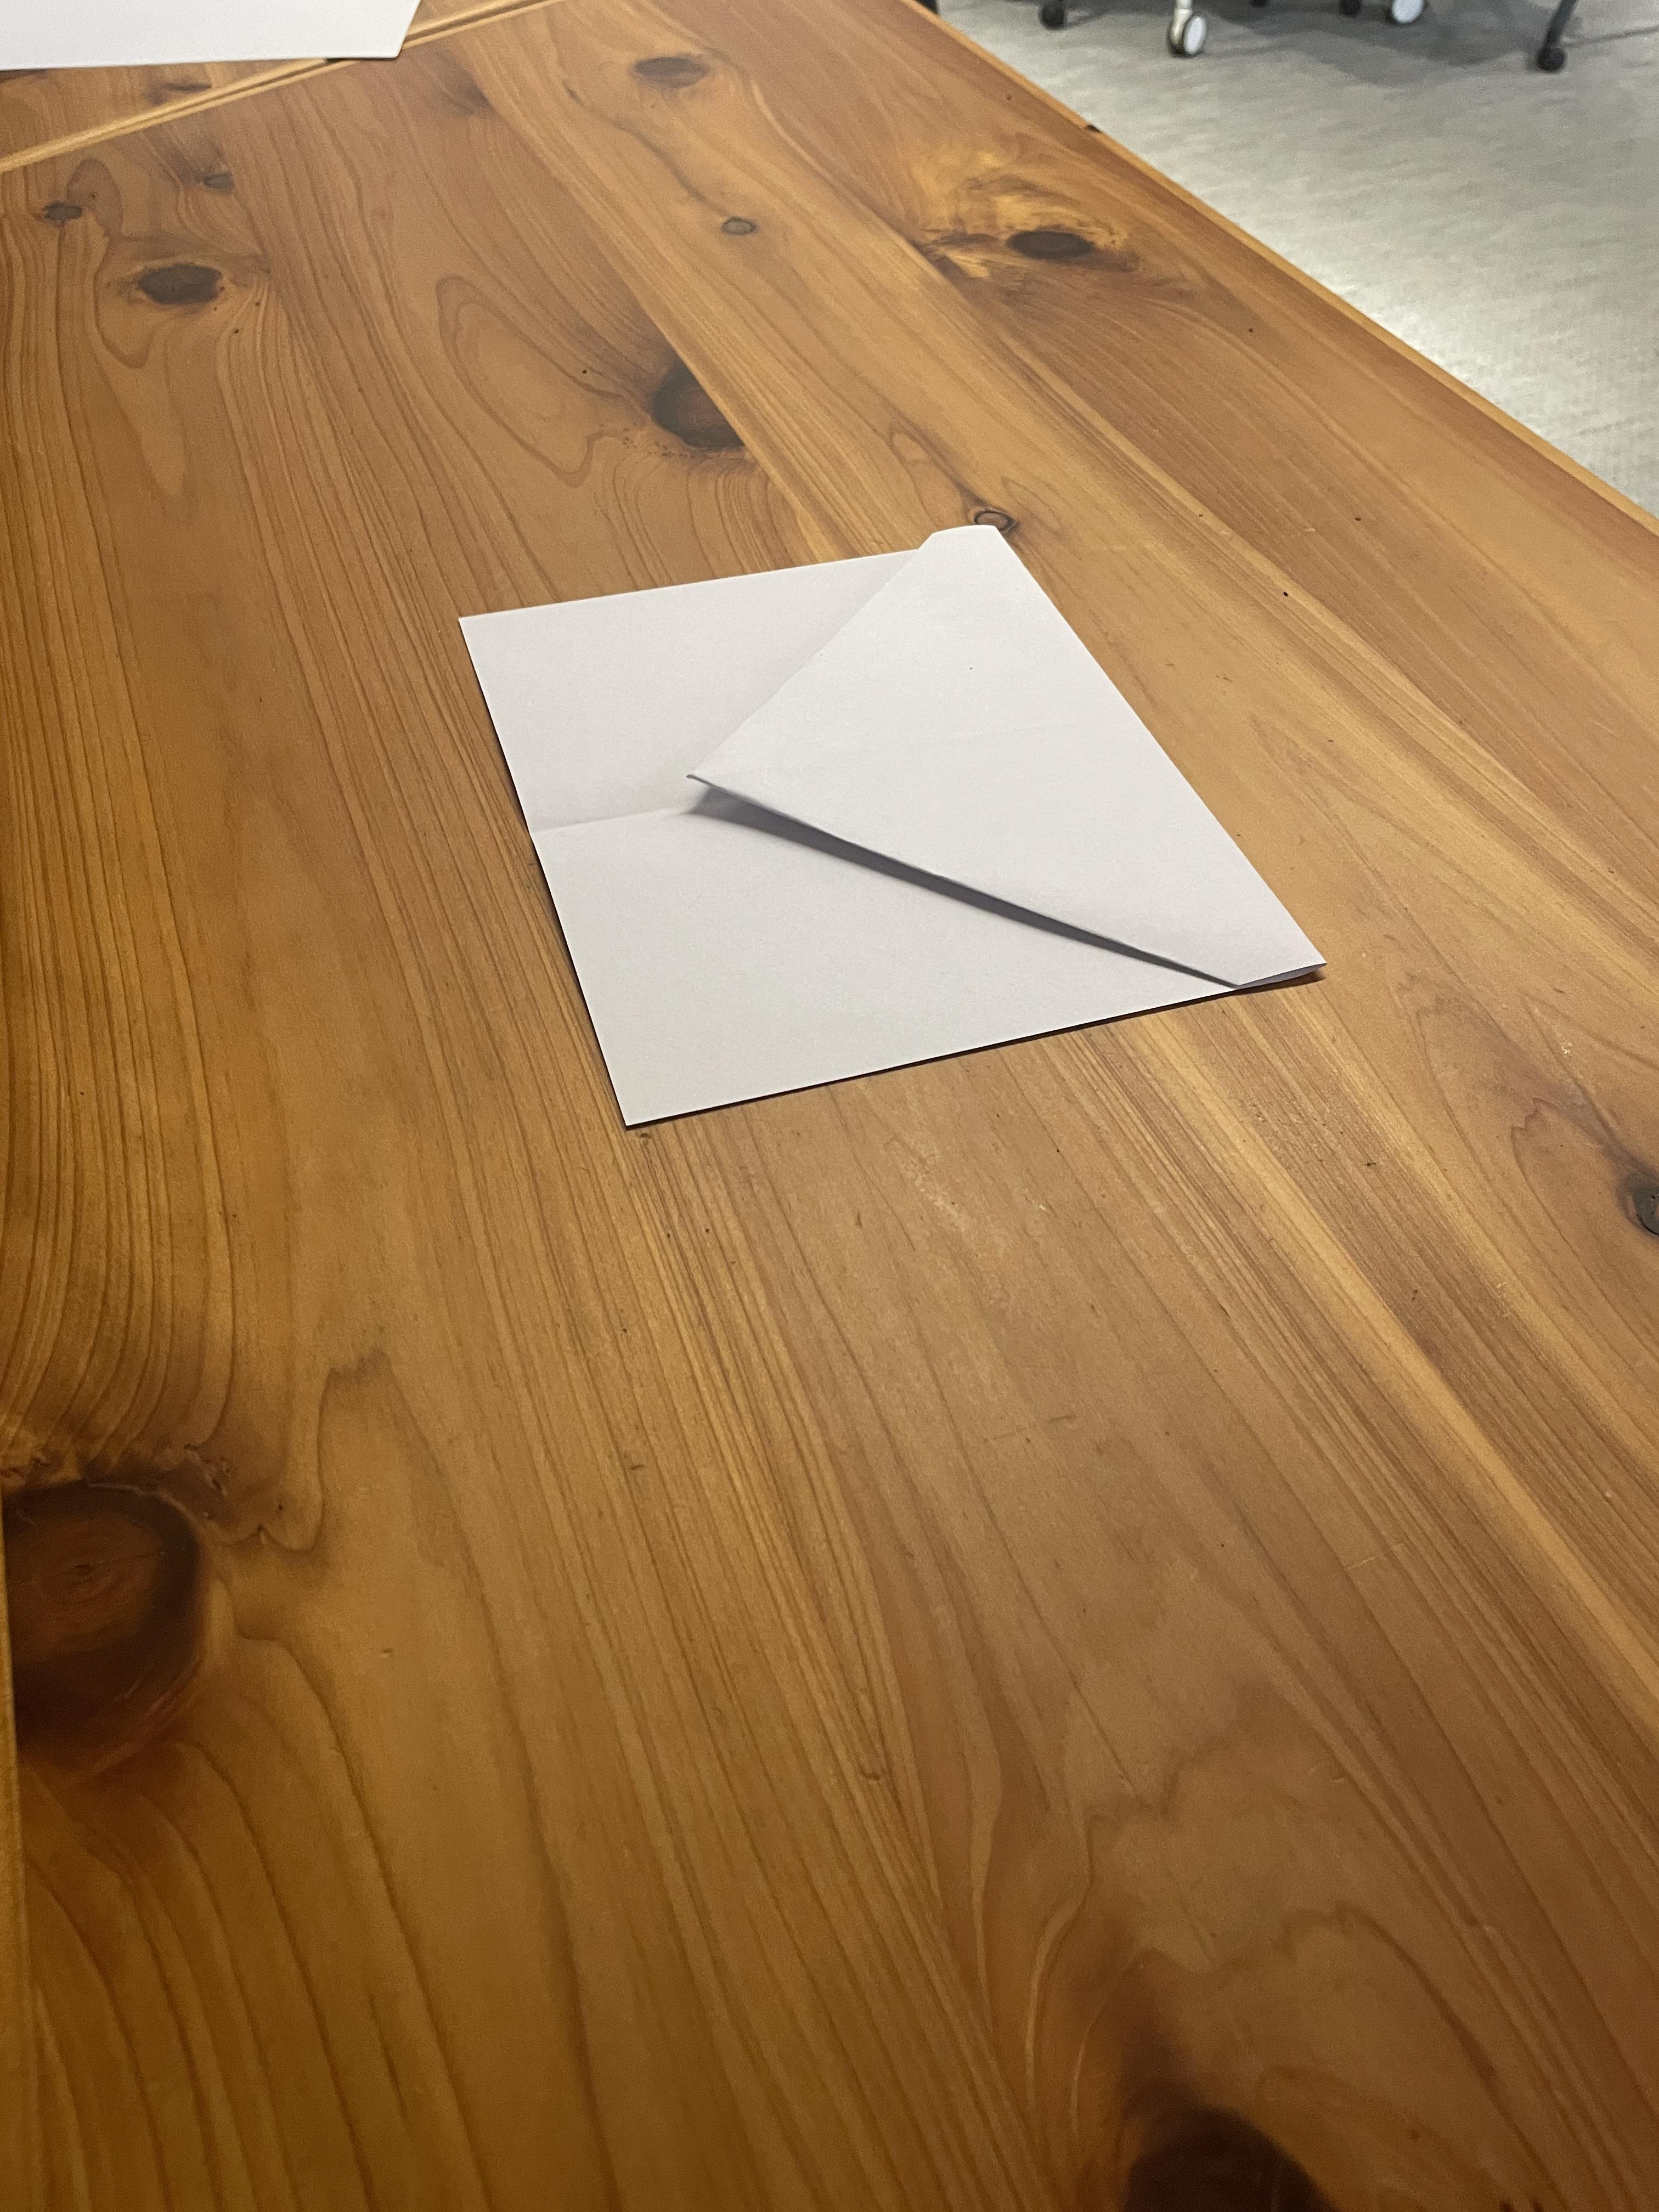shape_1: (253, 308, 1391, 1240)
